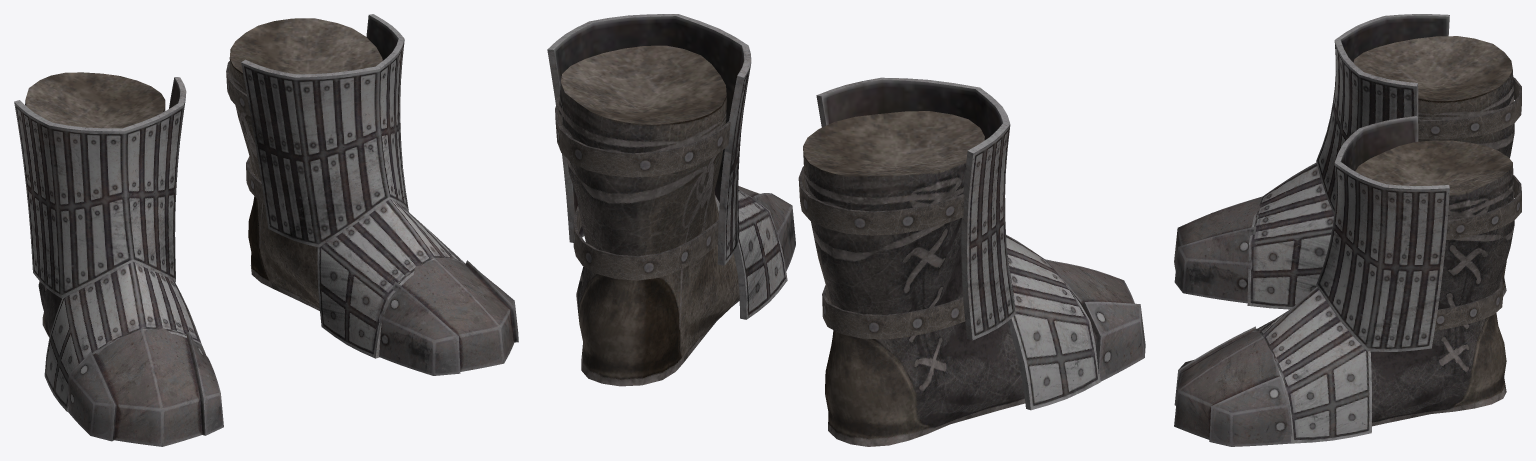
The model's file is sk_dwarf_iron_boots_elite_a2.fbx.
3 views of the same model, side by side, from view 1: azimuth 30°, elevation 25°; view 2: azimuth 150°, elevation 25°; view 3: azimuth 270°, elevation 25° (orthographic). The views are drawn at different scales.
Visible parts, largest first — view 1: sk_dwarf_iron_boots_elite_a2.0, sk_dwarf_iron_boots_elite_a2.1; view 2: sk_dwarf_iron_boots_elite_a2.0, sk_dwarf_iron_boots_elite_a2.1; view 3: sk_dwarf_iron_boots_elite_a2.0, sk_dwarf_iron_boots_elite_a2.1.
Boxes of the visible parts, bbox=[...] form: sk_dwarf_iron_boots_elite_a2.0: bbox=[14, 14, 518, 446]; sk_dwarf_iron_boots_elite_a2.1: bbox=[226, 61, 264, 204]; sk_dwarf_iron_boots_elite_a2.0: bbox=[547, 14, 1145, 446]; sk_dwarf_iron_boots_elite_a2.1: bbox=[555, 97, 965, 339]; sk_dwarf_iron_boots_elite_a2.0: bbox=[1174, 14, 1514, 446]; sk_dwarf_iron_boots_elite_a2.1: bbox=[1418, 77, 1521, 330].
Bounding box in the file's own units: 0.5675 × 0.4046 × 0.314.
Materials: 2 (2 with a texture image).
